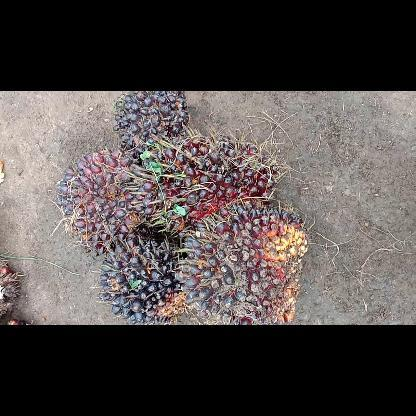TBS mentah: (125, 131, 283, 241), (176, 200, 310, 324), (54, 146, 156, 256), (96, 232, 186, 324), (110, 90, 192, 160)
